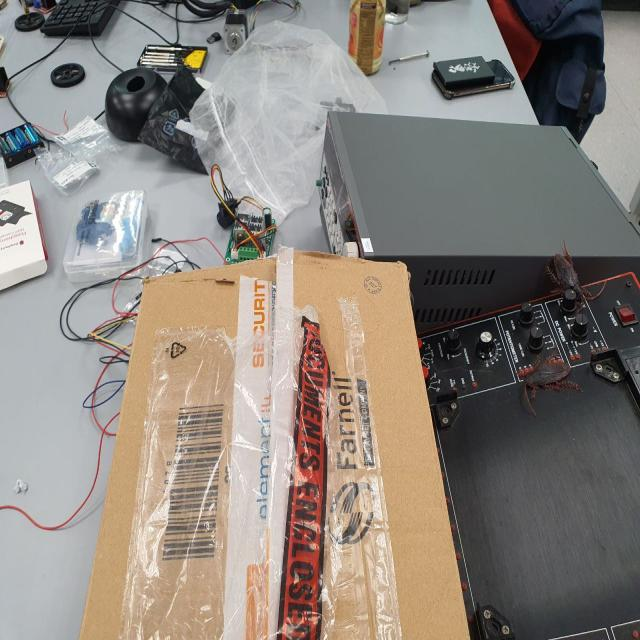Cockroach: (538, 240, 610, 309), (511, 336, 576, 405)
